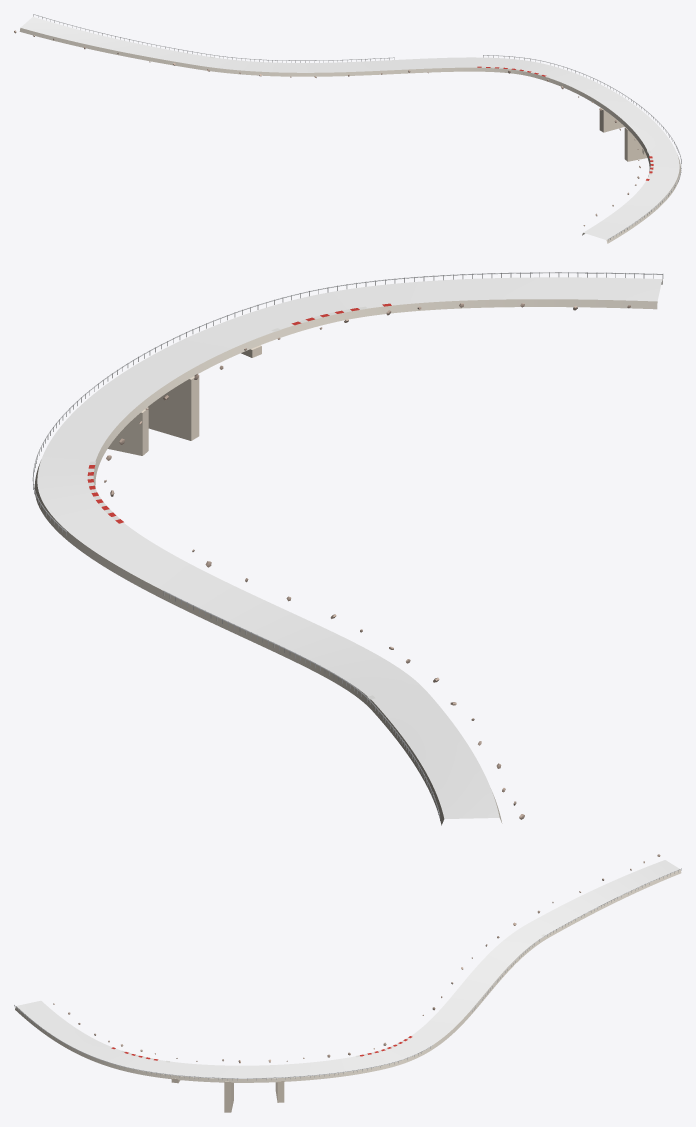
File: SM_AsirMountains_Track_10.fbx
The picture shows the model from 3 angles, top to bottom: view 1: azimuth 30°, elevation 25°; view 2: azimuth 150°, elevation 25°; view 3: azimuth 270°, elevation 25°; orthographic projection. The views are drawn at different scales.
Parts seen in each view (by area): view 1: SM_AsirMountains_Track_10; view 2: SM_AsirMountains_Track_10; view 3: SM_AsirMountains_Track_10.
Boxes of the visible parts, bbox=[...] form: SM_AsirMountains_Track_10: bbox=[14, 14, 681, 243]; SM_AsirMountains_Track_10: bbox=[32, 272, 663, 825]; SM_AsirMountains_Track_10: bbox=[14, 854, 681, 1112].
Size of the model in its own units: 20334 by 2942 by 28907.
